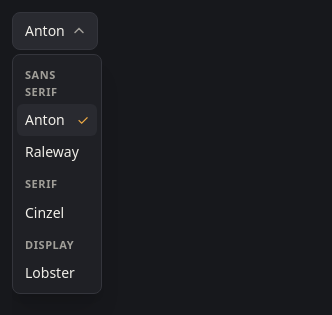
Select › works with the keyboard and shows group headings
The width and height of the screenshot is (332, 315).
Earlier steps of the test are not shown.
Expected: the text "Serif" is shown, x1=25 y1=176 x2=58 y2=191
Press ArrowDown in the list named "Font", box x1=12 y1=54 x2=102 y2=294
Press ArrowDown in the list named "Font", box x1=12 y1=54 x2=102 y2=294
Press Enter in the list named "Font", box x1=12 y1=54 x2=102 y2=294
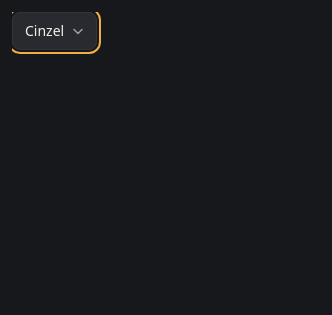
Expected: the list is gone
Expected: the button with aria-label "Font" reads "Cinzel"
Click the button with aria-label "Font" at (55,31), box x1=12 y1=12 x2=97 y2=50
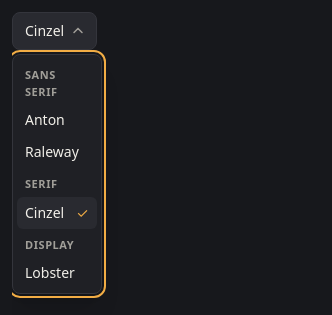
Press l in the list, box x1=12 y1=54 x2=102 y2=294
Press Enter in the list, box x1=12 y1=54 x2=102 y2=294
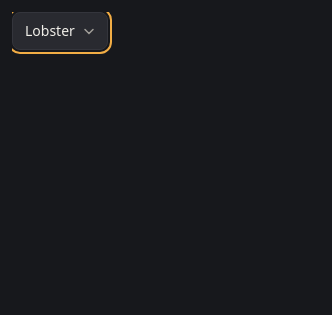
Expected: the button with aria-label "Font" reads "Lobster"
Click the button with aria-label "Font" at (60,31), box x1=12 y1=12 x2=108 y2=50
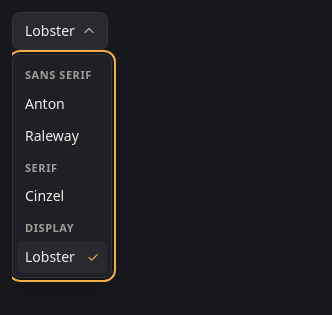
Press Escape in the list, box x1=12 y1=54 x2=112 y2=278
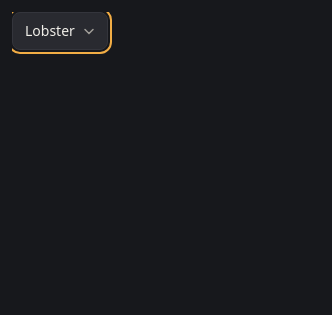
Expected: the button with aria-label "Font" reads "Lobster", x1=12 y1=12 x2=108 y2=50
Expected: the list is gone
